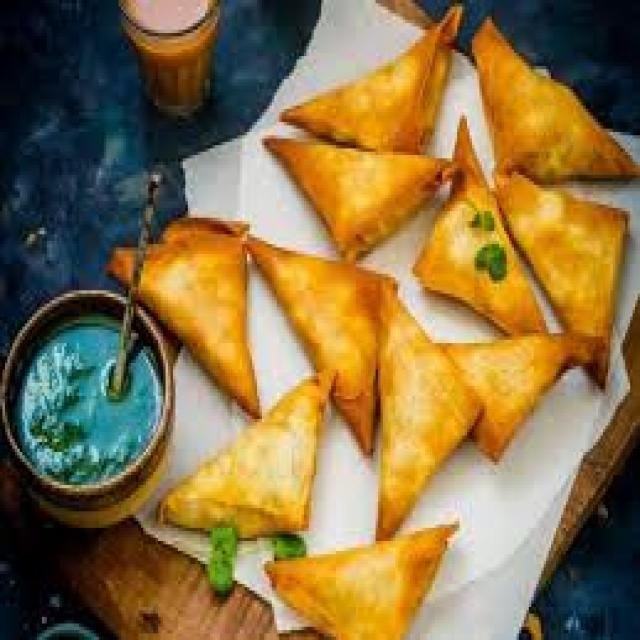SAMOSA: (376, 263, 494, 559), (242, 242, 392, 471), (157, 367, 340, 546), (257, 132, 473, 270), (473, 11, 638, 180), (261, 520, 466, 637)
